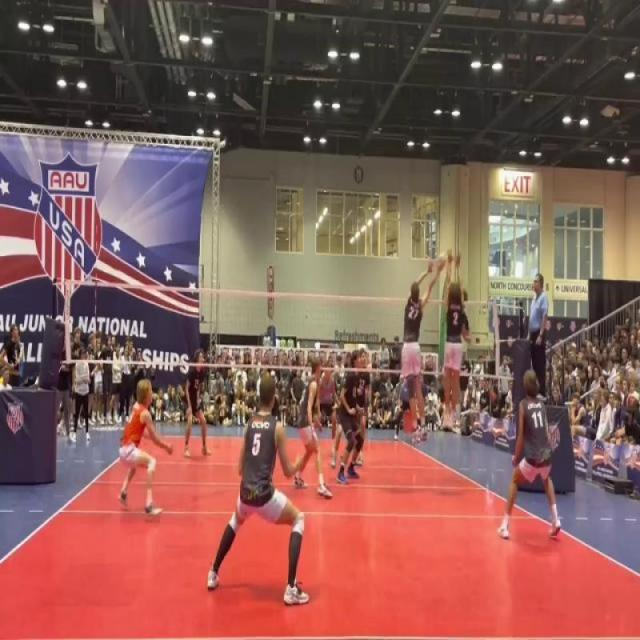volleyball: (437, 251, 449, 272)
